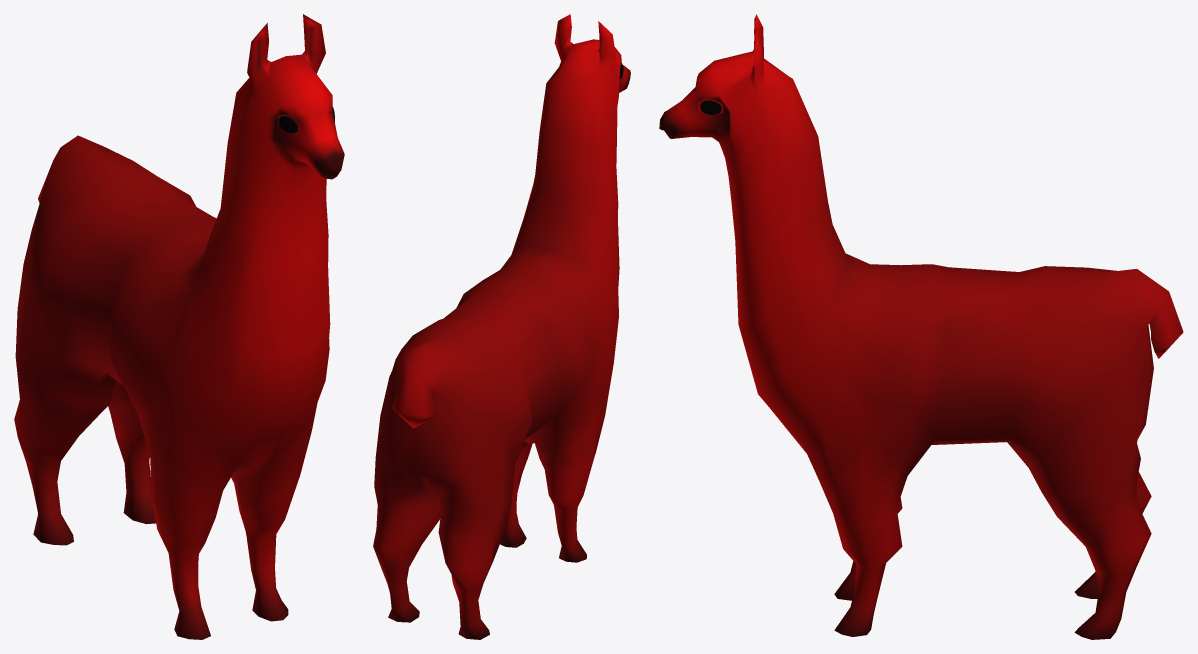
Rendered from lama_var_01.fbx.
The picture shows the model from 3 angles, left to right: view 1: azimuth 30°, elevation 25°; view 2: azimuth 150°, elevation 25°; view 3: azimuth 270°, elevation 25°; orthographic projection. The views are drawn at different scales.
Visible parts, largest first — view 1: lama_var_01; view 2: lama_var_01; view 3: lama_var_01.
Boxes of the visible parts, x1,y1,x2,y2 form: lama_var_01: (14,14,344,639); lama_var_01: (373,14,630,639); lama_var_01: (659,14,1183,639).
Bounding box in the file's own units: 683 × 1906 × 2368.
